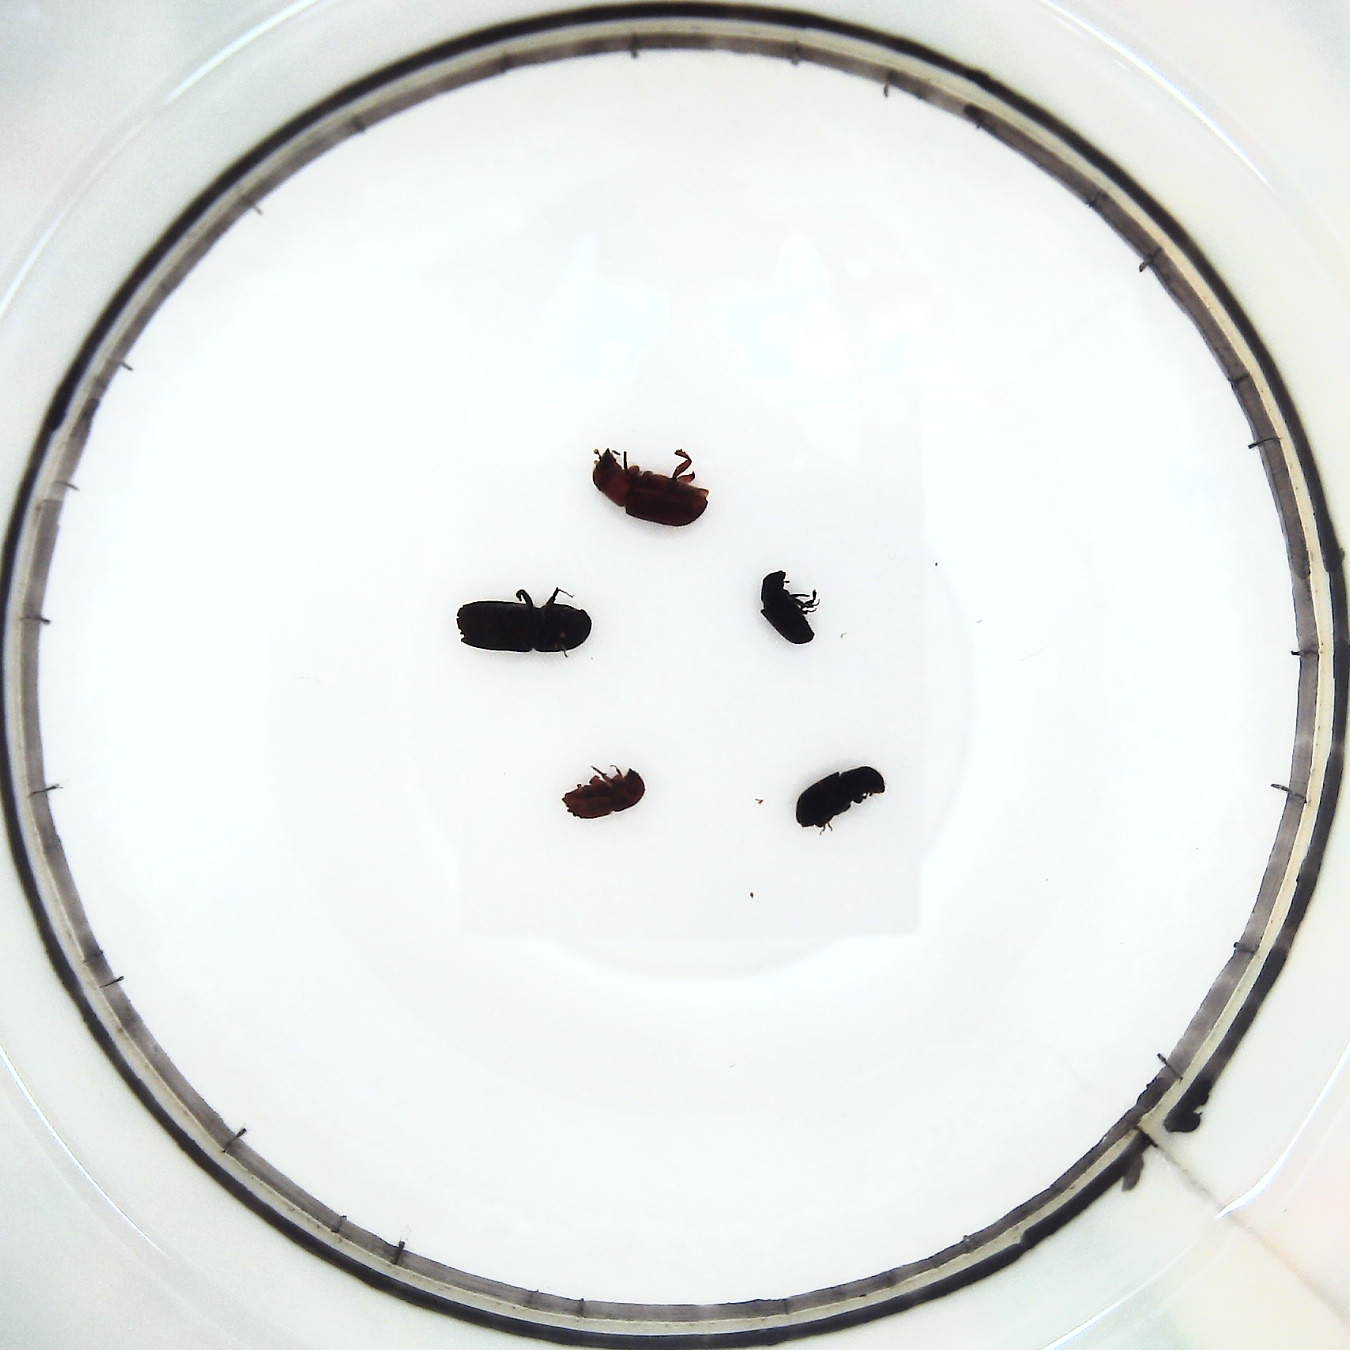Boerner: (452, 582, 595, 661)
Leconte: (585, 445, 715, 533)
armandi: (790, 762, 898, 836)
coleoptera: (753, 562, 830, 653)
linnaeus: (556, 757, 652, 828)
